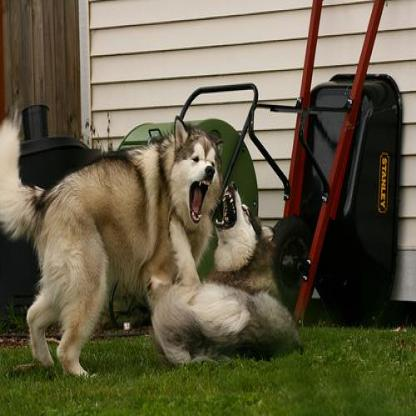malamute: (0, 100, 221, 376), (144, 181, 304, 367)
